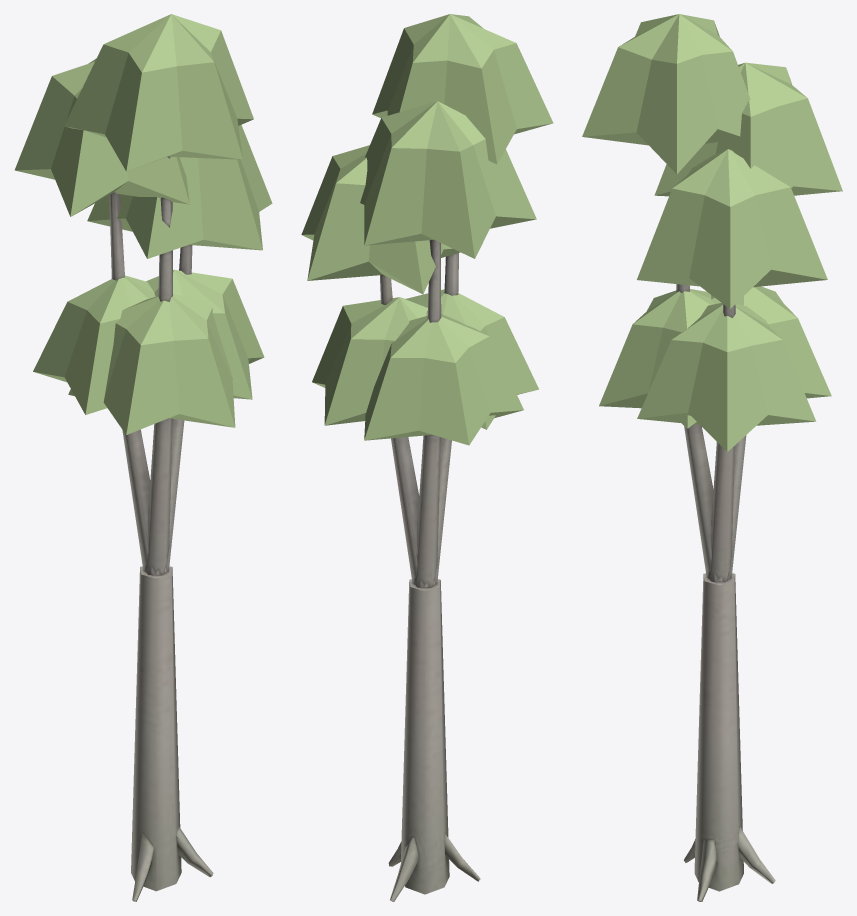
File: arv_betula_4.glb
3 renders of one model, left to right at view 1: azimuth 30°, elevation 25°; view 2: azimuth 150°, elevation 25°; view 3: azimuth 270°, elevation 25°, orthographic. The views are drawn at different scales.
Visible parts, largest first — view 1: arv_betula_4_corpo; view 2: arv_betula_4_corpo; view 3: arv_betula_4_corpo.
Boxes of the visible parts, <box> form: arv_betula_4_corpo: <box>14,14,272,901</box>; arv_betula_4_corpo: <box>301,14,553,901</box>; arv_betula_4_corpo: <box>582,14,842,901</box>.
Bounding box in the file's own units: 0.6796 × 2.58 × 0.7054.
Materials: 2 (1 with a texture image).
